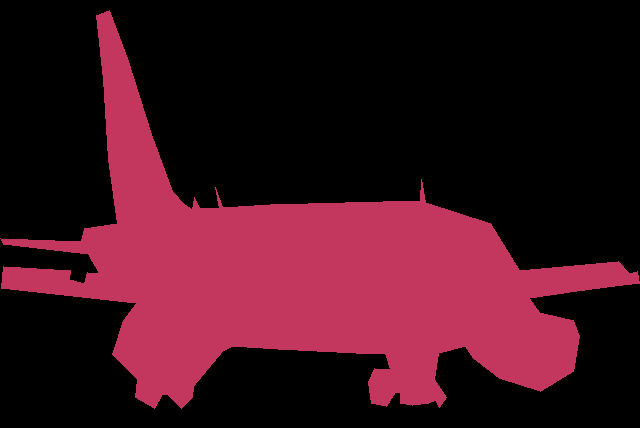Airplane: (0, 10, 639, 409)
